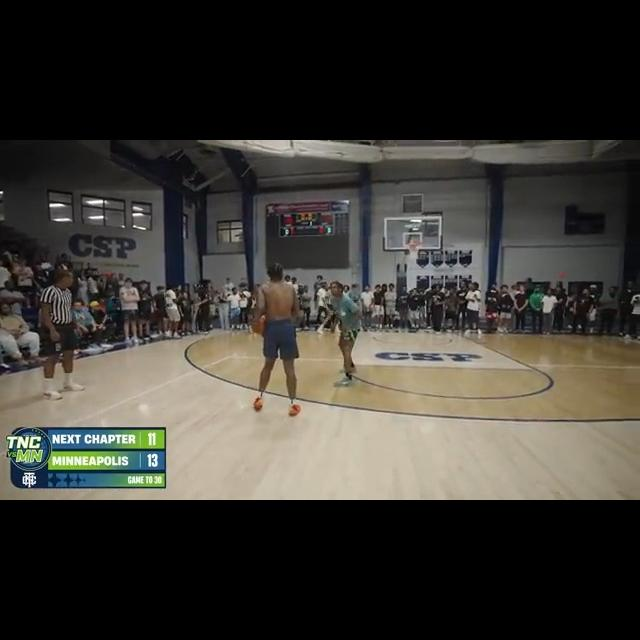basketball: (250, 313, 265, 335)
hoop: (405, 241, 420, 259)
